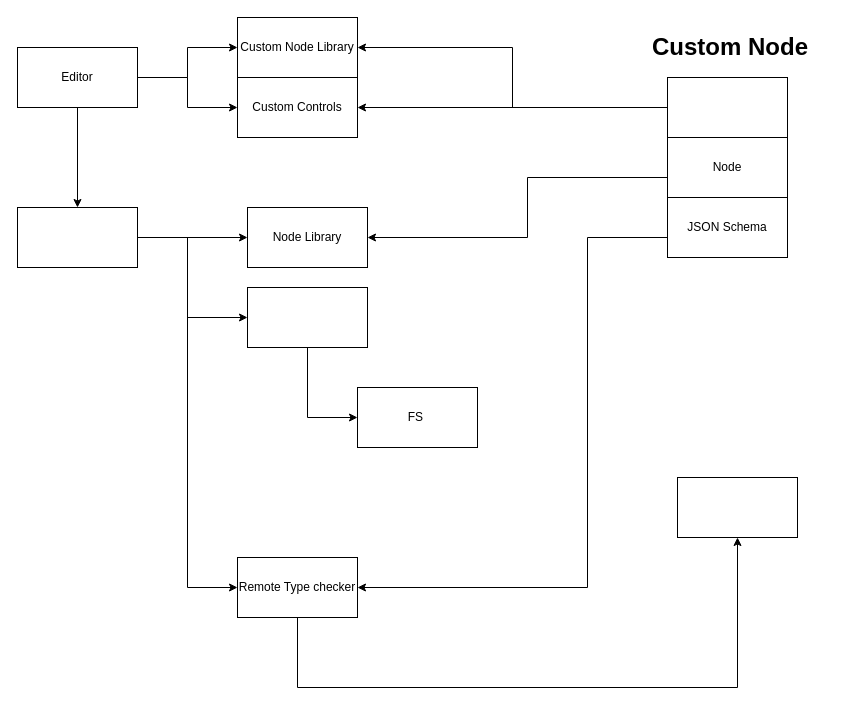
Image size: 845x713. Some labels were removed from this diagram. Here are the shapes that lost their labels. From the top down, the centre of each, then its label:
At point (727, 107): "UI".
At point (77, 237): "Engine Core".
At point (307, 317): "Capabilities".
At point (737, 507): "Remote JSON Schema".
